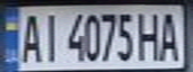0: (81, 9, 103, 63)
4: (63, 9, 84, 63)
5: (115, 9, 139, 61)
7: (100, 9, 118, 62)
A: (15, 10, 45, 64), (154, 8, 184, 62)
H: (136, 8, 163, 62)
I: (39, 9, 63, 63)
